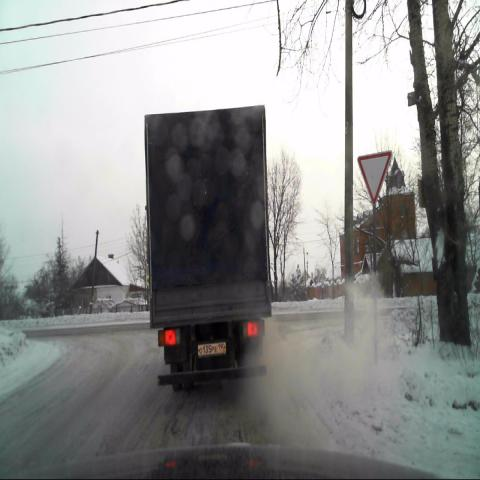2_4: (356, 150, 391, 205)
